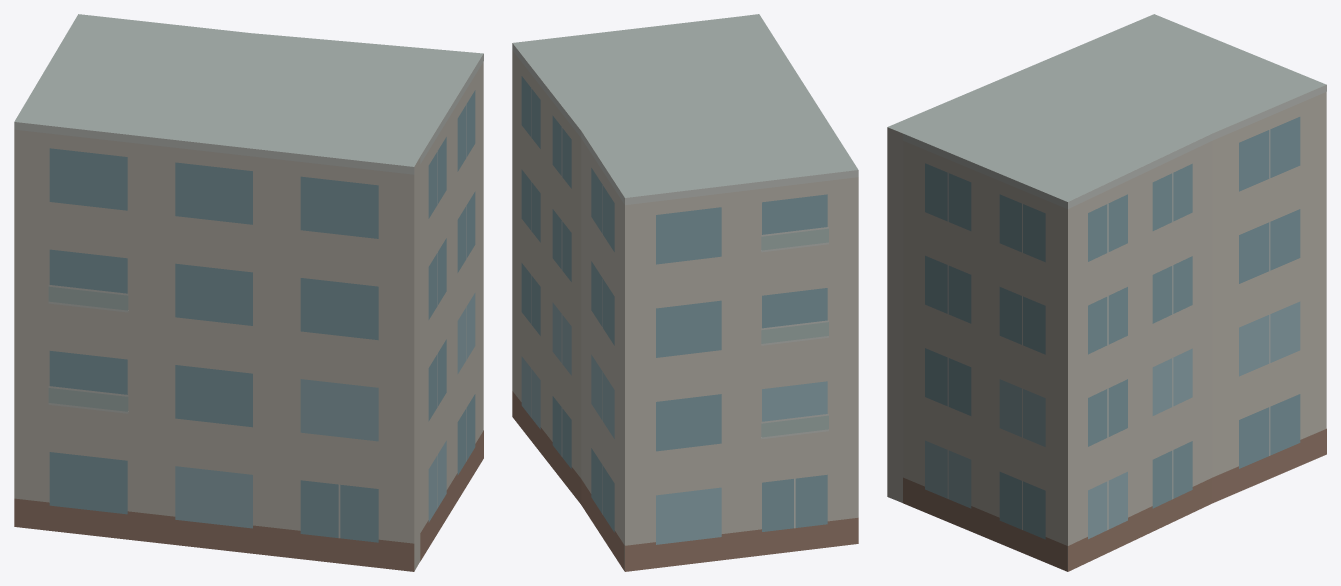
The model's file is survey-upis-32959055.glb.
The picture shows the model from 3 angles, left to right: view 1: azimuth 30°, elevation 25°; view 2: azimuth 150°, elevation 25°; view 3: azimuth 270°, elevation 25°; orthographic projection. The views are drawn at different scales.
Visible parts, largest first — view 1: survey-upis-32959055.tmp; view 2: survey-upis-32959055.tmp; view 3: survey-upis-32959055.tmp.
Boxes of the visible parts, bbox=[...] form: survey-upis-32959055.tmp: bbox=[14, 14, 483, 571]; survey-upis-32959055.tmp: bbox=[512, 14, 858, 571]; survey-upis-32959055.tmp: bbox=[887, 14, 1326, 571].
Bounding box in the file's own units: 13.98 × 12.8 × 13.8.
